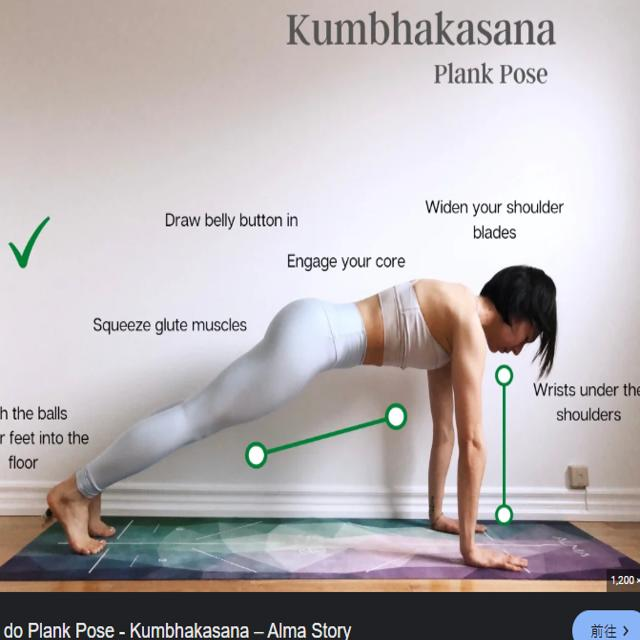Plank_Pose: (37, 255, 567, 576)
